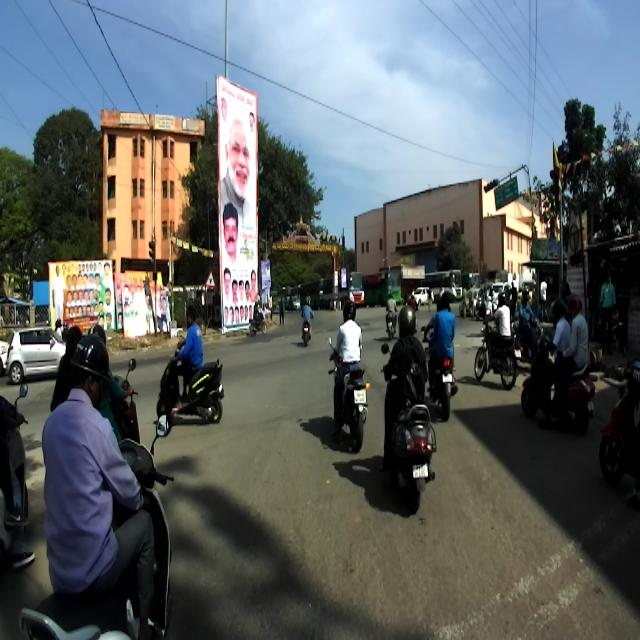motorcycle ahead at: (158, 354, 226, 435), (386, 406, 436, 514), (332, 367, 372, 454)
